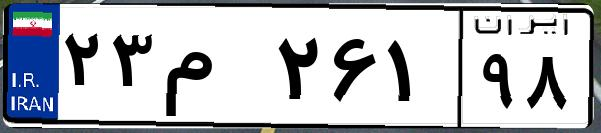1: (385, 28, 445, 110)
2: (270, 28, 330, 110), (57, 26, 110, 100)
3: (110, 28, 158, 98)
6: (330, 28, 385, 110)
8: (525, 38, 570, 115)
9: (475, 38, 525, 113)
م: (158, 20, 270, 120)
